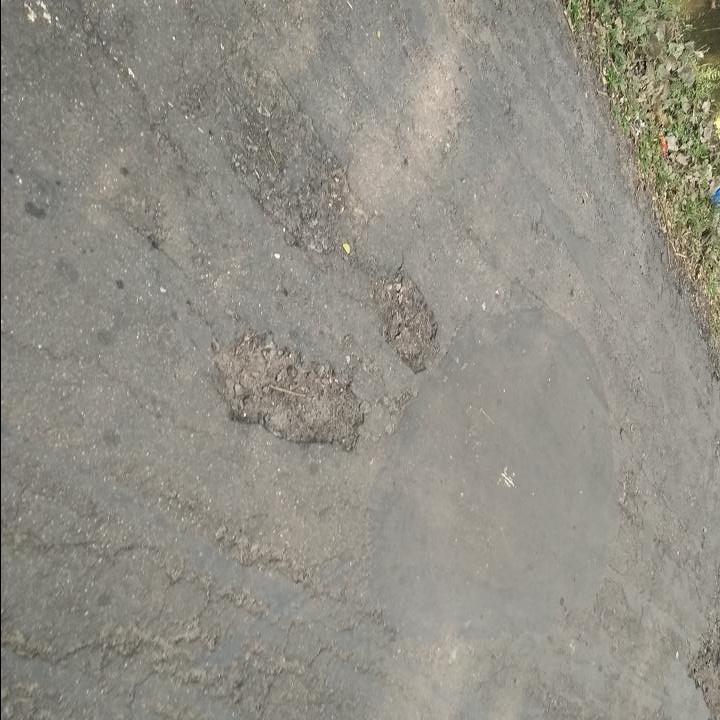pothole: (226, 65, 369, 260), (205, 328, 370, 451), (365, 262, 441, 377), (686, 606, 720, 720)
